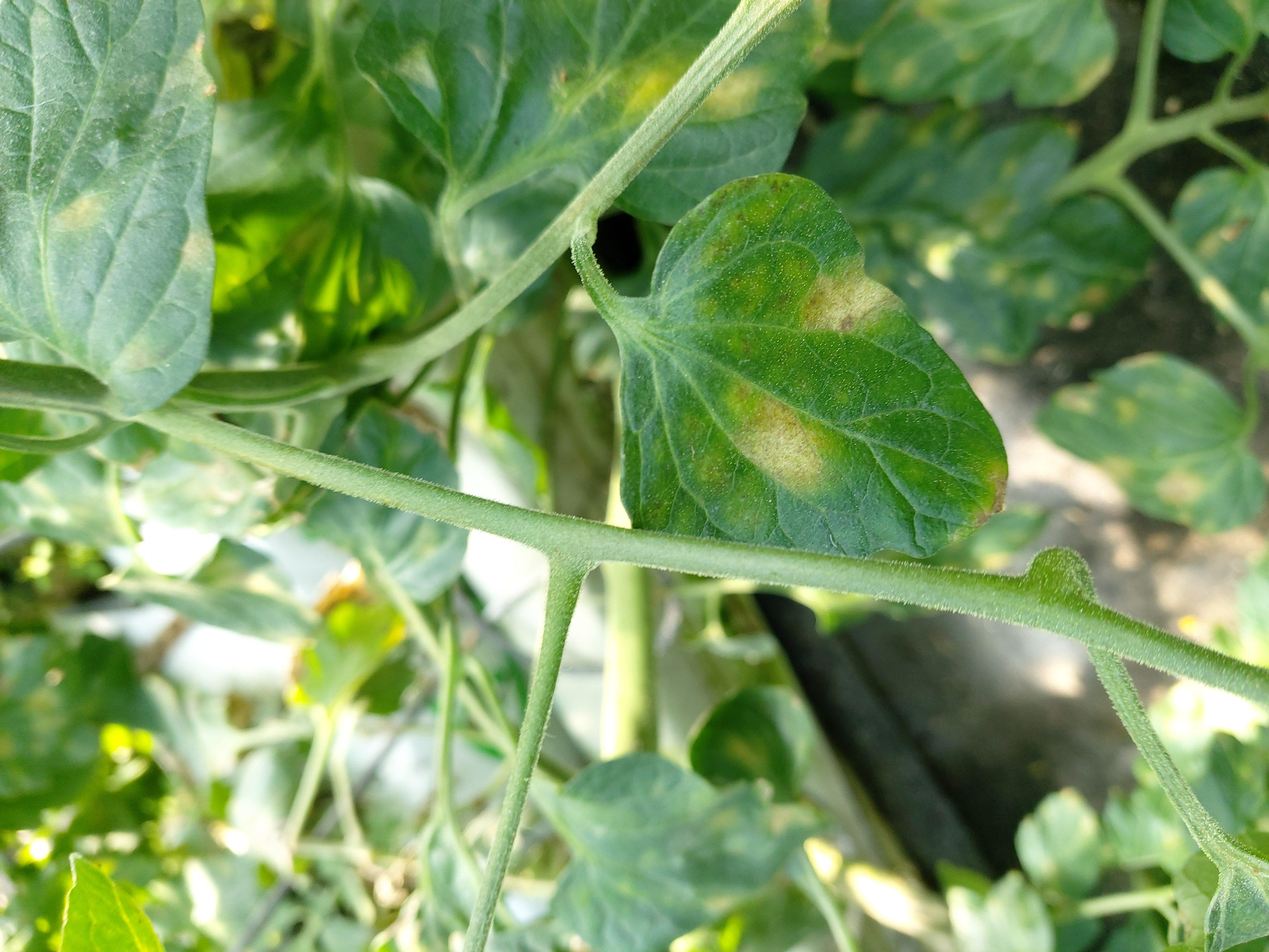Leaf Mold: (616, 173, 1008, 559), (354, 0, 834, 231), (0, 0, 214, 420), (1032, 350, 1269, 533), (851, 0, 1119, 109)
